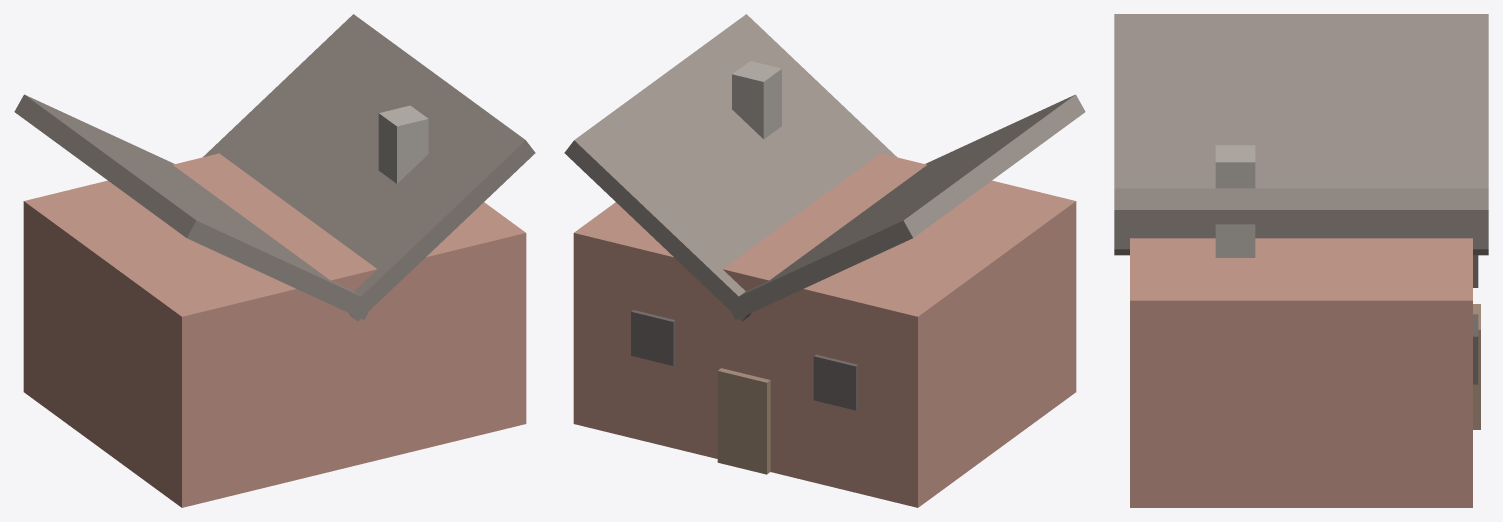
The picture shows the model from 3 angles, left to right: view 1: azimuth 30°, elevation 25°; view 2: azimuth 150°, elevation 25°; view 3: azimuth 270°, elevation 25°; orthographic projection. The views are drawn at different scales.
Visible parts, largest first — view 1: brick-walls, roof-right, roof-left, chimney; view 2: brick-walls, roof-right, roof-left, door, chimney, window-left, window-right; view 3: brick-walls, roof-left, roof-right, chimney, door, window-right.
Part boxes in pixels (box(x1,y1,x2,y2)): brick-walls: box(23, 153, 526, 507); roof-right: box(203, 14, 535, 321); roof-left: box(14, 94, 373, 319); chimney: box(378, 105, 428, 183); brick-walls: box(573, 153, 1076, 507); roof-right: box(564, 14, 896, 321); roof-left: box(726, 94, 1085, 319); door: box(717, 368, 770, 474); chimney: box(732, 61, 781, 139); window-left: box(813, 354, 858, 410); window-right: box(631, 310, 675, 365); brick-walls: box(1130, 238, 1472, 507); roof-left: box(1114, 14, 1488, 255); roof-right: box(1114, 188, 1488, 249); chimney: box(1215, 145, 1255, 257); door: box(1473, 304, 1480, 429); window-right: box(1473, 314, 1478, 384).
Size of the model in its own units: 9.94 by 7.91 by 8.5.
